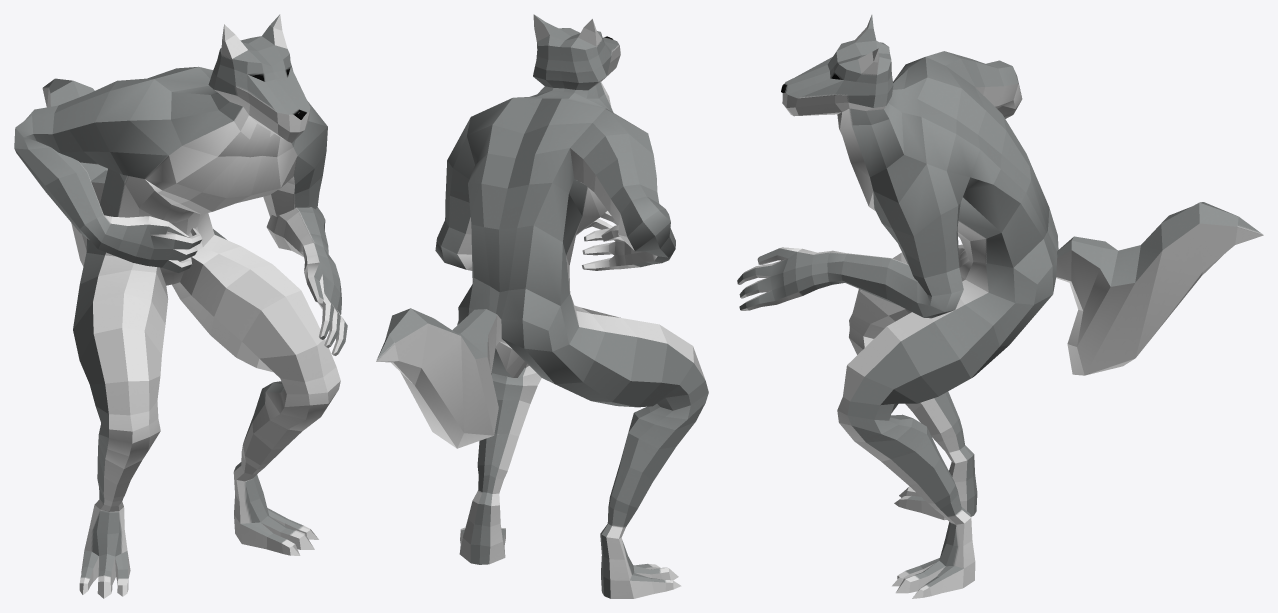
The model's file is WolfIdle_(100).obj.
3 views of the same model, side by side, from view 1: azimuth 30°, elevation 25°; view 2: azimuth 150°, elevation 25°; view 3: azimuth 270°, elevation 25° (orthographic). The views are drawn at different scales.
Parts seen in each view (by area): view 1: Box001; view 2: Box001; view 3: Box001.
Boxes of the visible parts, left/top/right/bottom form: Box001: left=14, top=14, right=347, bottom=598; Box001: left=376, top=14, right=708, bottom=598; Box001: left=737, top=15, right=1263, bottom=598.
Bounding box in the file's own units: 67.95 × 132 × 118.
